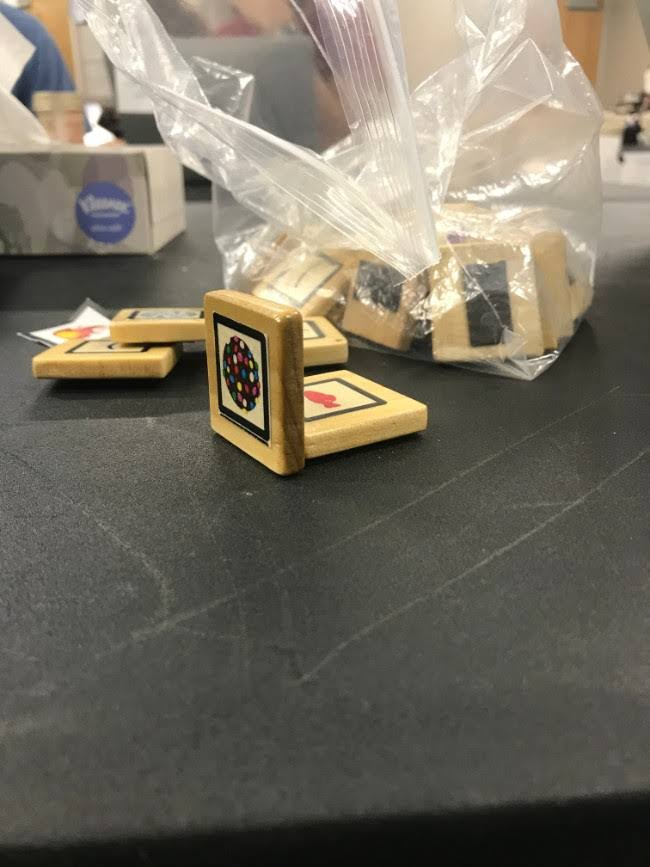cookie: (213, 311, 270, 445)
